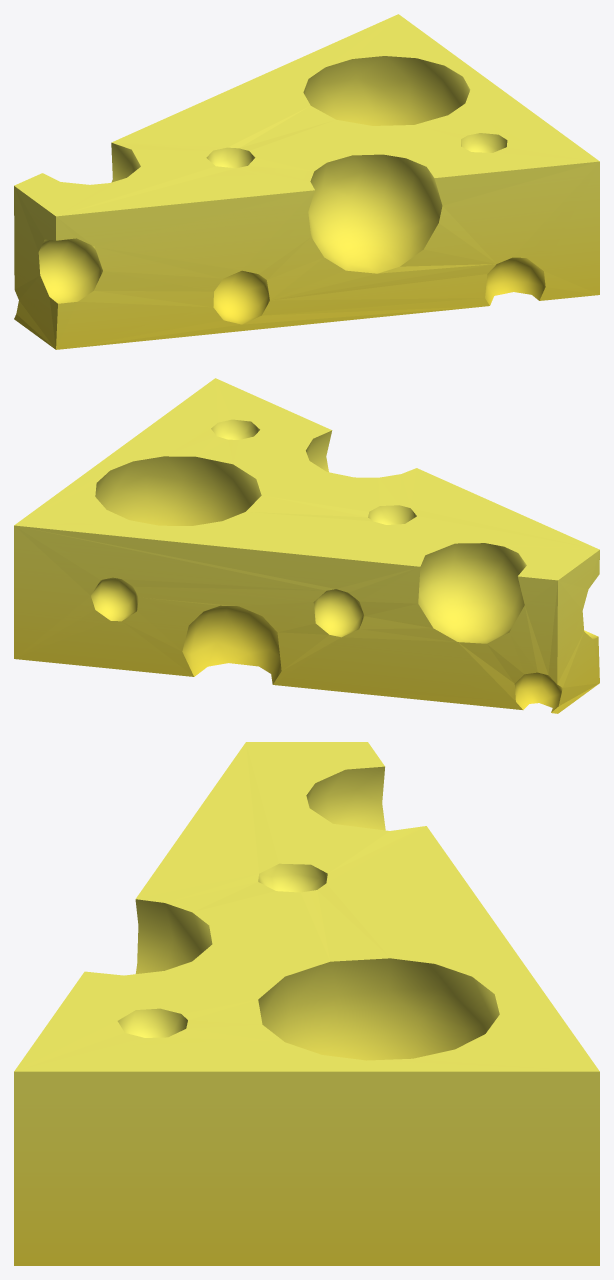
Rendered from cheese.fbx.
The picture shows the model from 3 angles, top to bottom: view 1: azimuth 30°, elevation 25°; view 2: azimuth 150°, elevation 25°; view 3: azimuth 270°, elevation 25°; orthographic projection. The views are drawn at different scales.
Parts seen in each view (by area): view 1: cheese_original; view 2: cheese_original; view 3: cheese_original.
Part boxes in pixels (box(x1,y1,x2,y2)): cheese_original: box(14, 14, 599, 349); cheese_original: box(14, 378, 599, 713); cheese_original: box(14, 742, 599, 1265).
Size of the model in its own units: 58.89 by 16.18 by 44.25.
